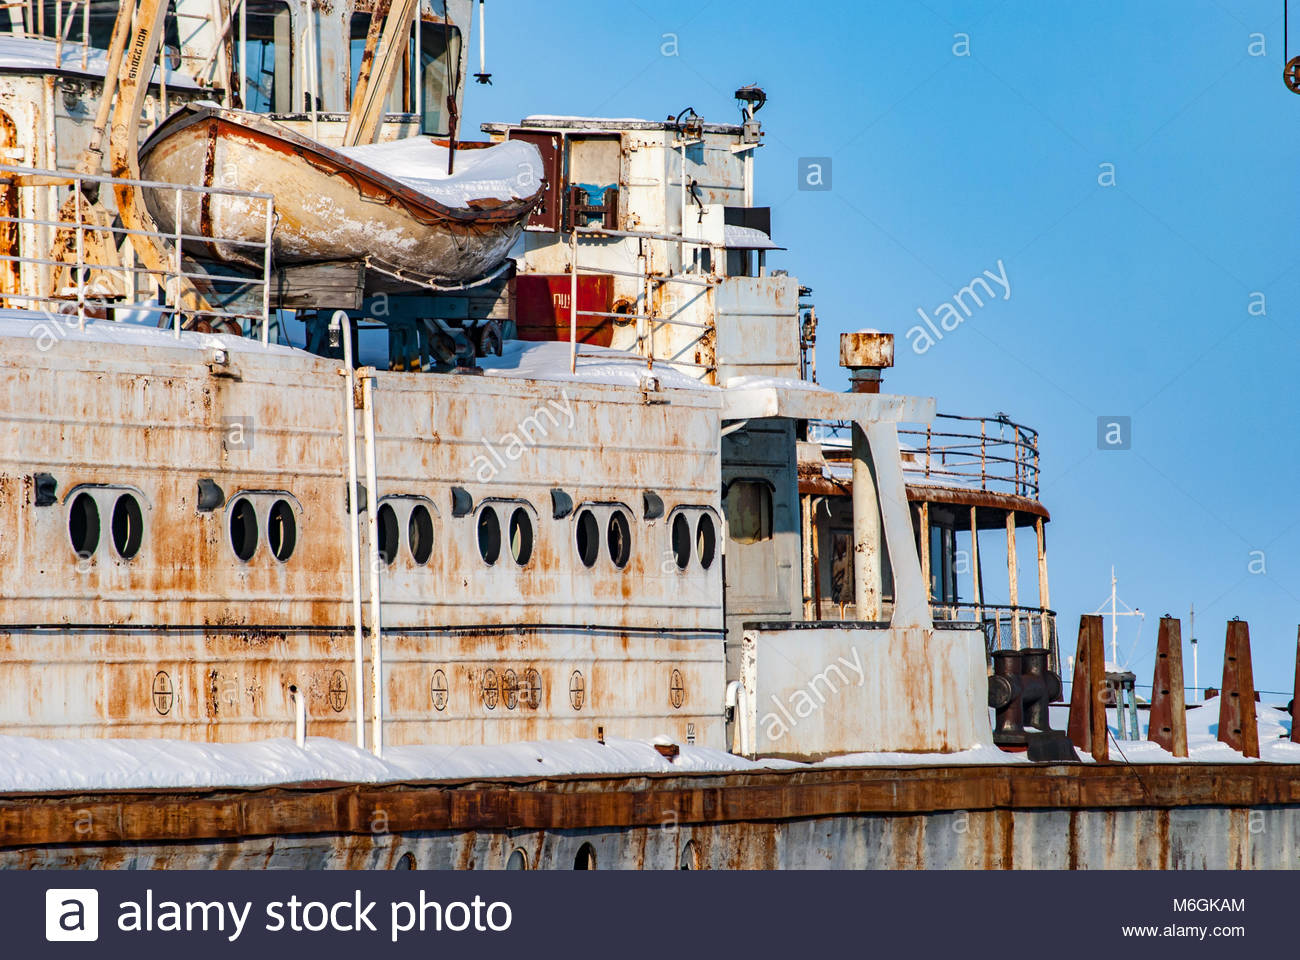rust: (162, 503, 357, 725), (18, 786, 614, 845), (739, 766, 1286, 821), (464, 642, 545, 716), (915, 486, 1048, 524), (1073, 621, 1105, 745), (1215, 619, 1249, 735), (1153, 619, 1180, 737)
